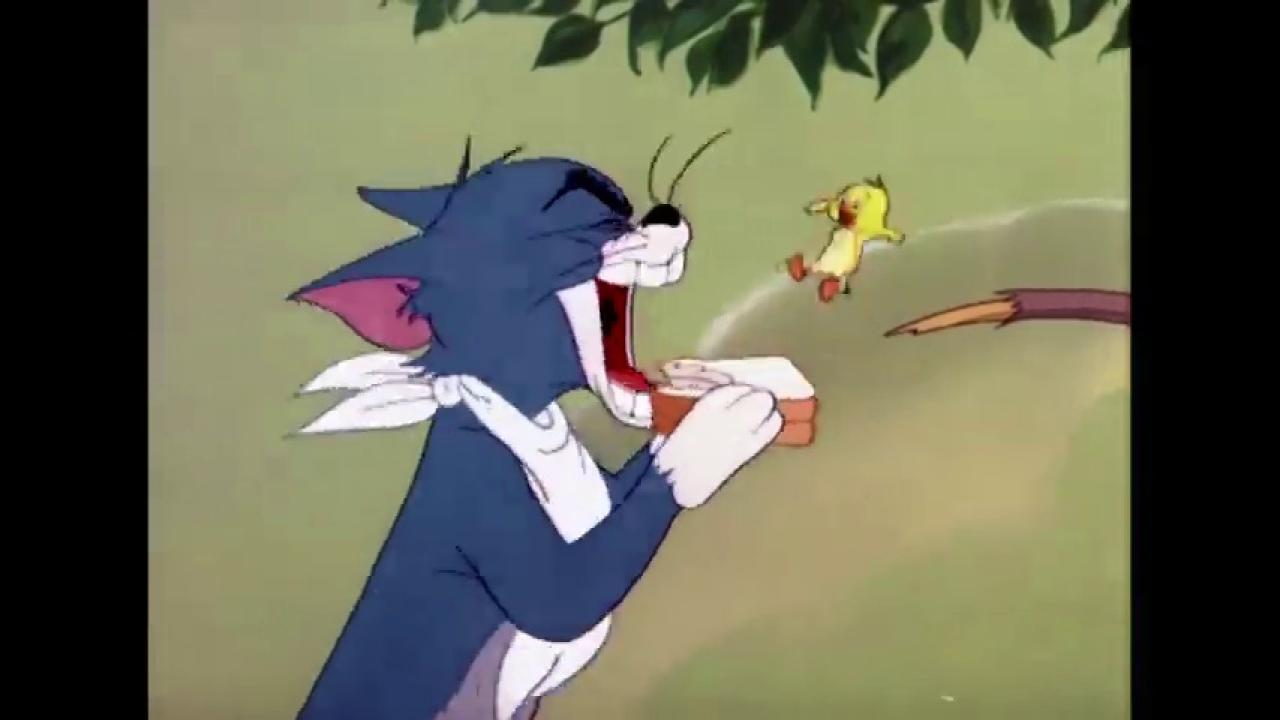Tom: (285, 133, 787, 720)
